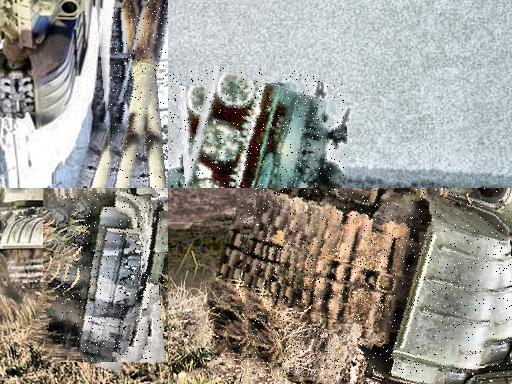tanks: (239, 189, 512, 384), (184, 69, 348, 189), (63, 190, 169, 363), (1, 1, 92, 126), (110, 1, 168, 189)
